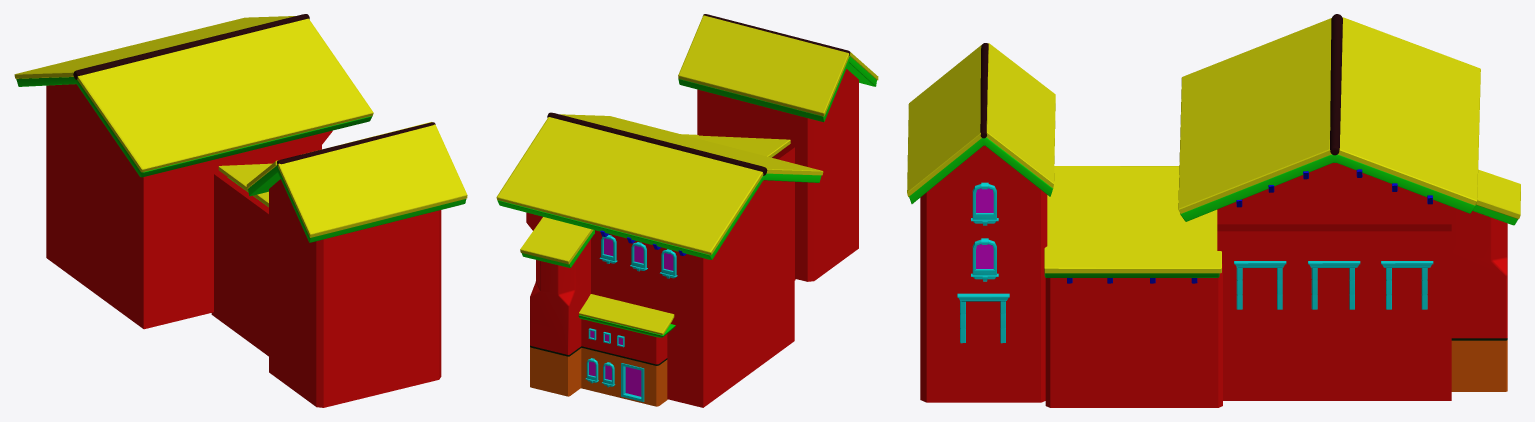
File: whiteBuilding Unity.fbx
The picture shows the model from 3 angles, left to right: view 1: azimuth 30°, elevation 25°; view 2: azimuth 150°, elevation 25°; view 3: azimuth 270°, elevation 25°; orthographic projection. The views are drawn at different scales.
Visible parts, largest first — view 1: whiteBuildingUnity; view 2: whiteBuildingUnity; view 3: whiteBuildingUnity.
Boxes of the visible parts, x1,y1,x2,y2 form: whiteBuildingUnity: (14,14,467,407); whiteBuildingUnity: (496,14,878,407); whiteBuildingUnity: (907,14,1520,407).
Size of the model in its own units: 26.11 by 25.01 by 49.13.
